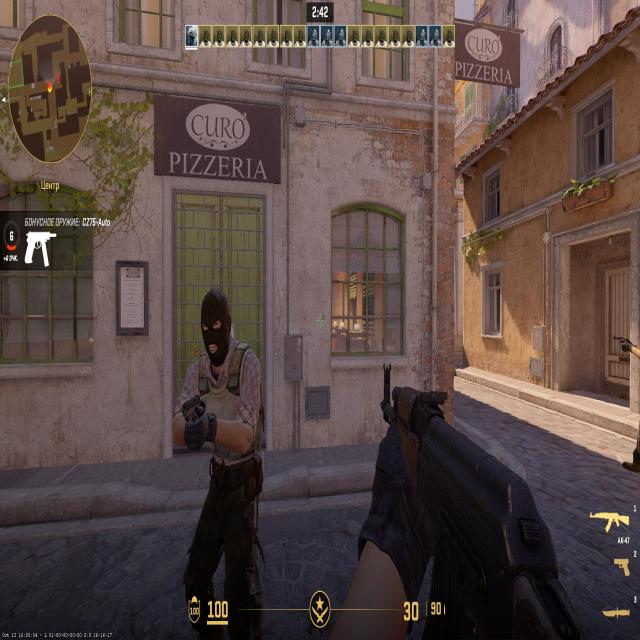T: (195, 298, 259, 596)
T_heat: (206, 297, 226, 345)
